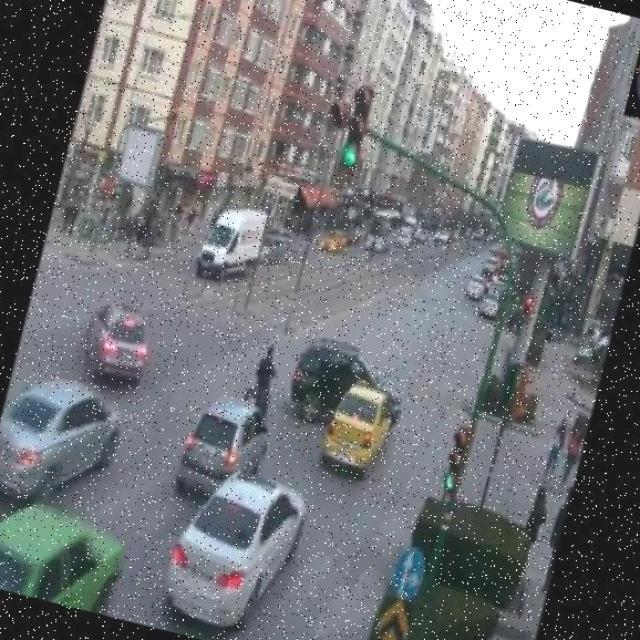accident: (274, 329, 416, 484)
